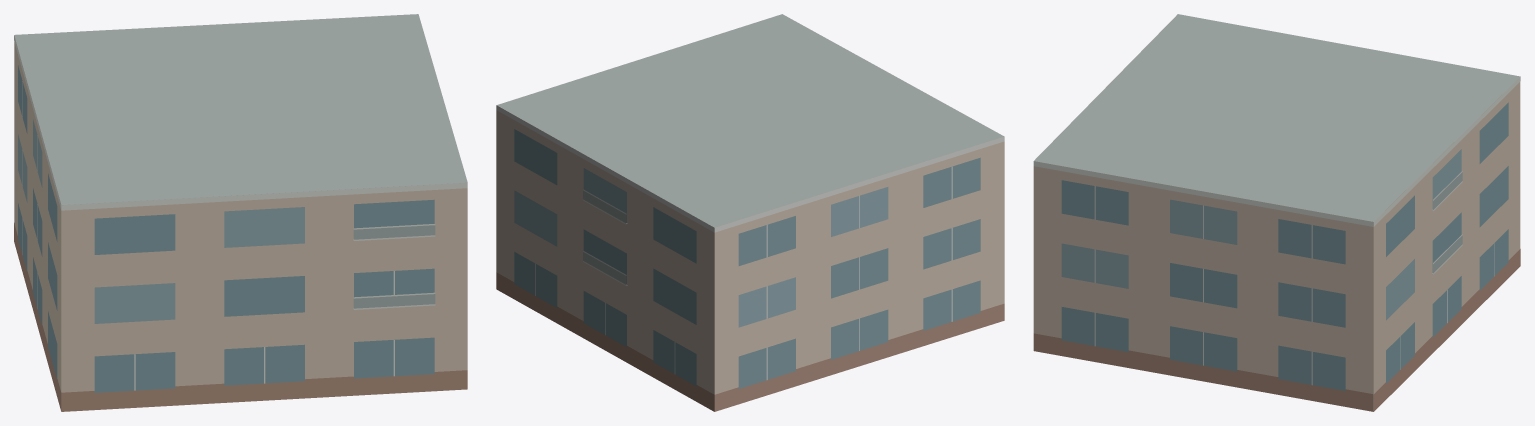
The model's file is survey-upis-32527552.glb.
3 renders of one model, left to right at view 1: azimuth 30°, elevation 25°; view 2: azimuth 150°, elevation 25°; view 3: azimuth 270°, elevation 25°, orthographic. The views are drawn at different scales.
Visible parts, largest first — view 1: survey-upis-32527552.tmp; view 2: survey-upis-32527552.tmp; view 3: survey-upis-32527552.tmp.
Boxes of the visible parts, x1,y1,x2,y2 form: survey-upis-32527552.tmp: (14, 14, 467, 411); survey-upis-32527552.tmp: (496, 14, 1004, 411); survey-upis-32527552.tmp: (1033, 14, 1520, 411).
Bounding box in the file's own units: 21.49 × 9.15 × 21.26.
